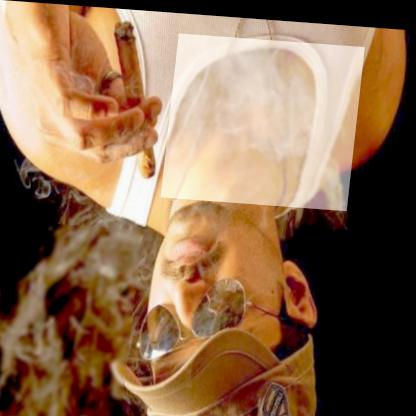smoke: (165, 31, 365, 205), (0, 220, 147, 416)
